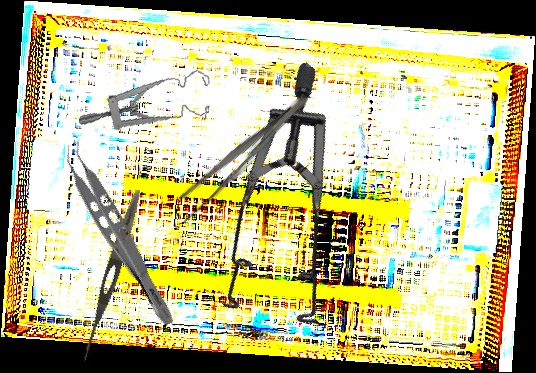Dressing Forceps: (167, 86, 316, 227), (77, 187, 146, 366)
Speculum: (145, 59, 445, 362), (78, 50, 216, 148)
Tissue Forceps: (52, 137, 191, 329)
